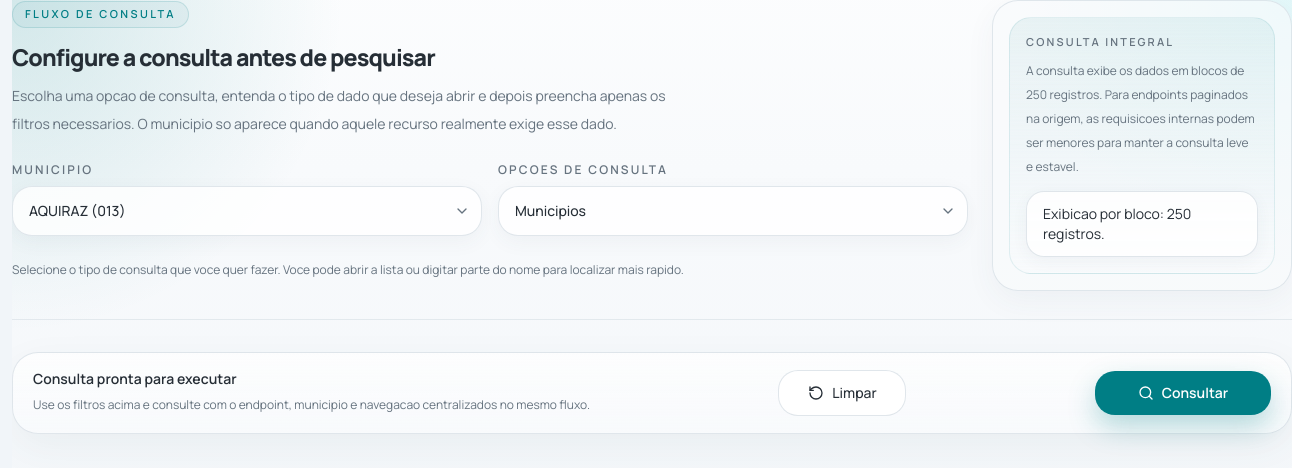
Test case: QueryForm › renders endpoints in alphabetical order in the autocomplete list
Click the dropdown labelled "Opcoes de consulta": (733, 211) left=498, top=186, right=968, bottom=236
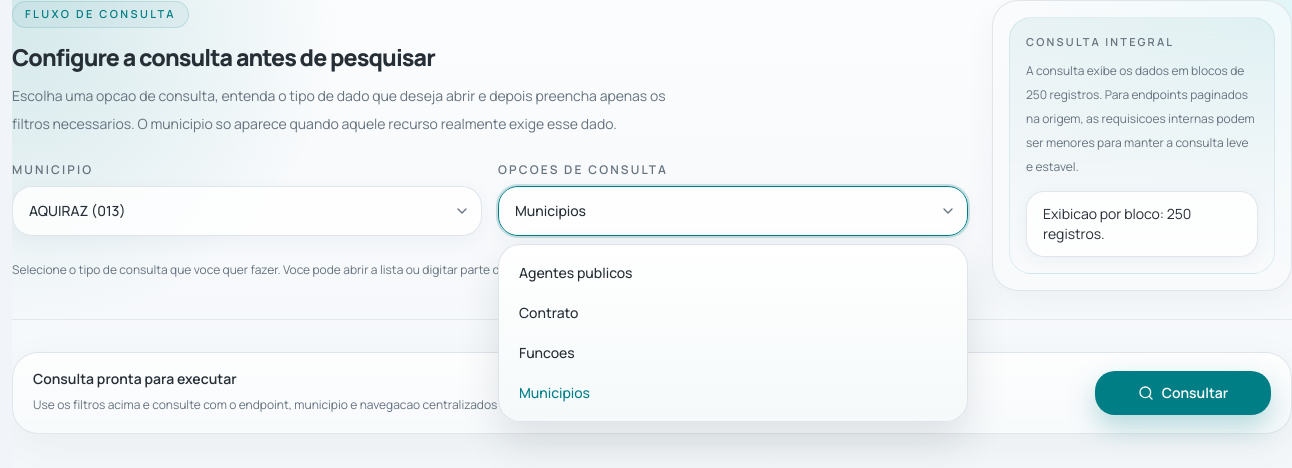
Check: the options read "Agentes publicos", "Contrato", "Funcoes", "Municipios", in this order, box left=507, top=253, right=959, bottom=293; left=507, top=293, right=959, bottom=333; left=507, top=333, right=959, bottom=373; left=507, top=373, right=959, bottom=413
